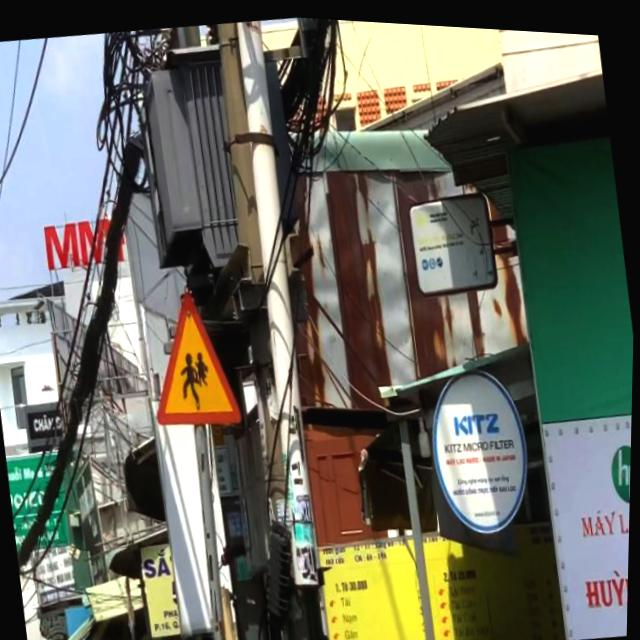Tre em: (140, 281, 248, 433)
